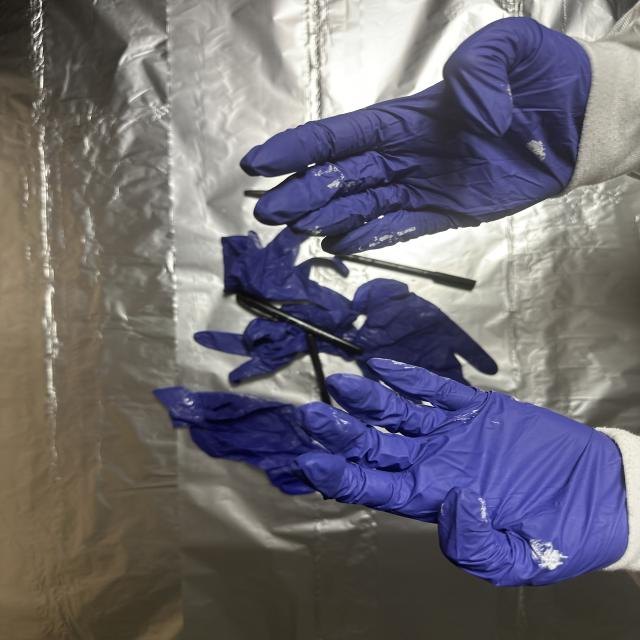gloves_contaminated: (241, 18, 591, 254), (292, 358, 630, 586)
